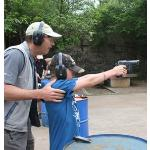Pistol: (114, 60, 140, 78)
